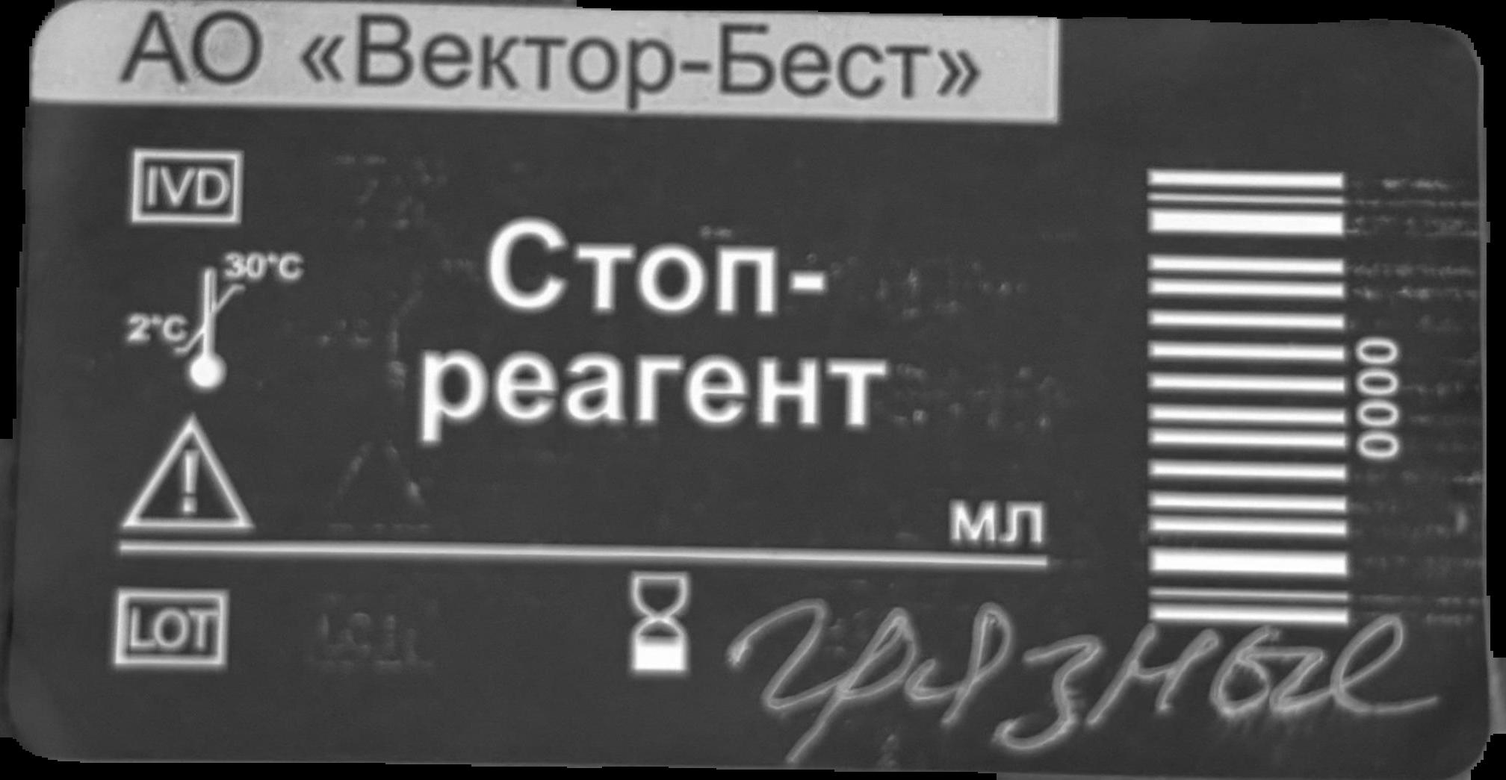something: (1140, 163, 1360, 632), (127, 250, 308, 398), (120, 409, 257, 537), (112, 584, 229, 677), (130, 141, 246, 232), (626, 568, 695, 679)
text: (418, 215, 894, 446), (118, 5, 991, 111), (1356, 335, 1406, 462), (950, 500, 1049, 550)
